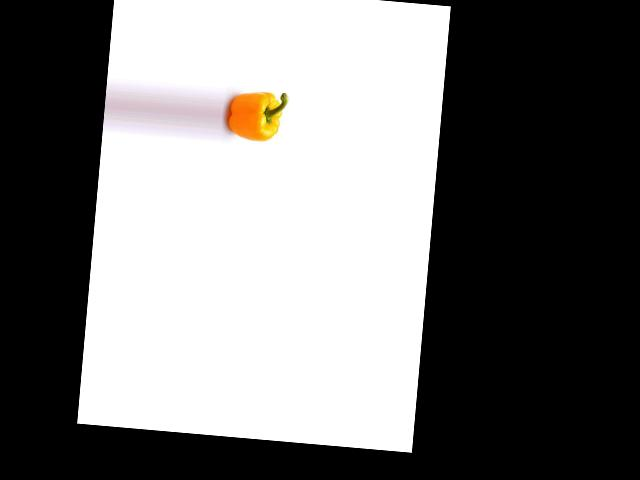bell_pepper: (225, 86, 286, 147)
